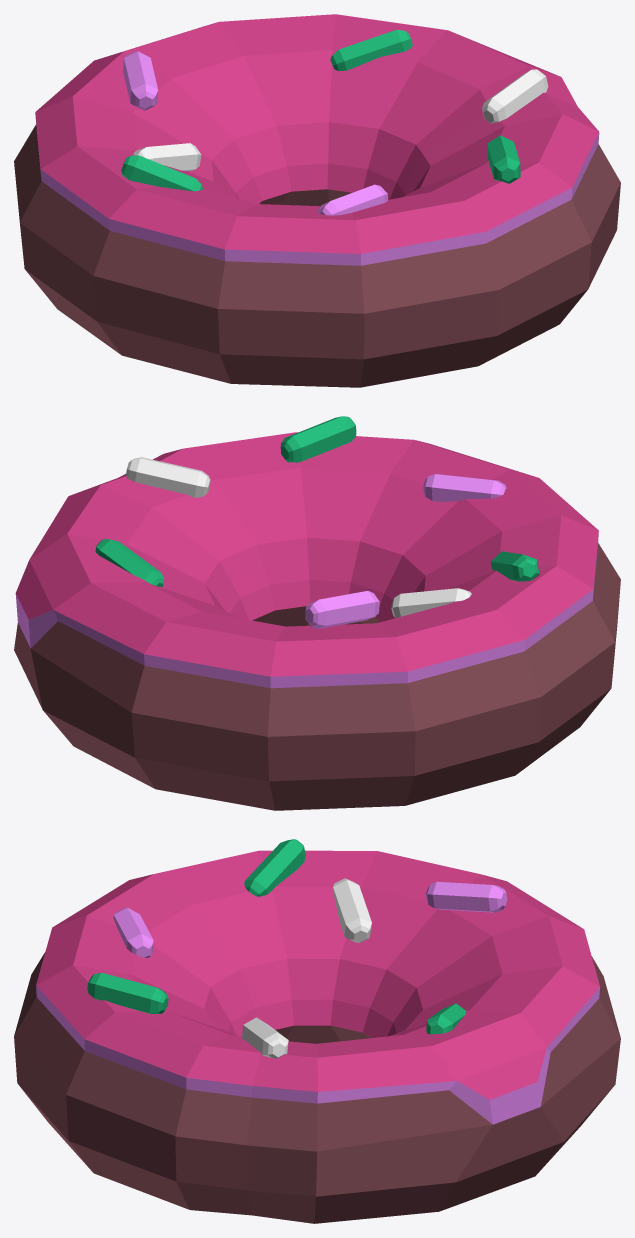
Rendered from Donut.001.fbx.
3 views of the same model, one above another, from view 1: azimuth 30°, elevation 25°; view 2: azimuth 150°, elevation 25°; view 3: azimuth 270°, elevation 25° (orthographic).
Parts seen in each view (by area): view 1: Donut.001; view 2: Donut.001; view 3: Donut.001.
Part boxes in pixels (x1,y1,x2,y2): Donut.001: (14, 14, 620, 387); Donut.001: (14, 416, 620, 810); Donut.001: (14, 839, 620, 1223).
Bounding box in the file's own units: 52.33 × 17.81 × 52.68.
